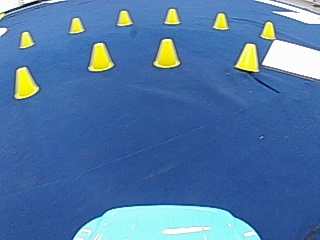cone: (12, 66, 39, 98), (152, 37, 180, 67), (87, 41, 113, 71), (234, 42, 259, 71), (212, 11, 229, 30), (163, 7, 180, 24), (68, 16, 84, 34), (259, 21, 275, 39), (18, 30, 34, 48), (116, 9, 132, 26)
